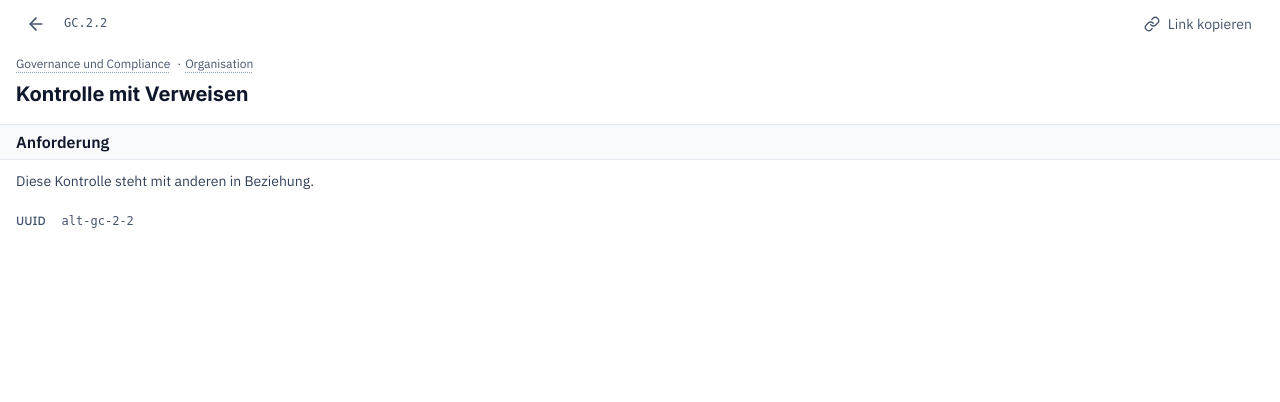
Test: ControlDetail › shows the practice identifier in the breadcrumb card and keeps curated fields hidden
Click the button with aria-label "Praktik: Governance und Compliance".
click(95, 64)  # box [16,52,173,76]
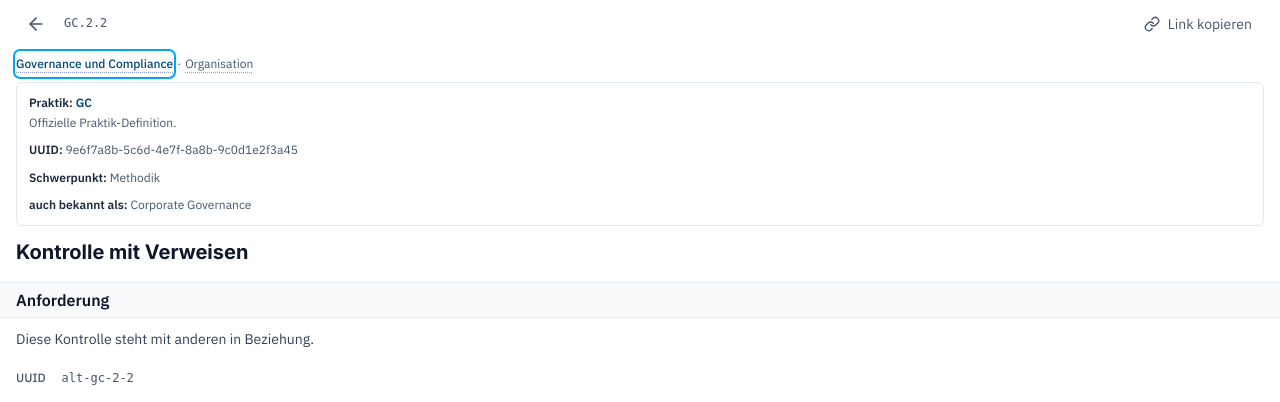
expect the text "Offizielle Praktik-Definition." is shown: met, box [29,114,176,130]
expect the text "Methodik" is shown: met, box [110,170,160,184]
expect the text "Corporate Governance" is shown: met, box [130,197,252,212]
Click the button with aria-label "Thema: Organisation".
click(220, 64)  # box [185,52,255,76]
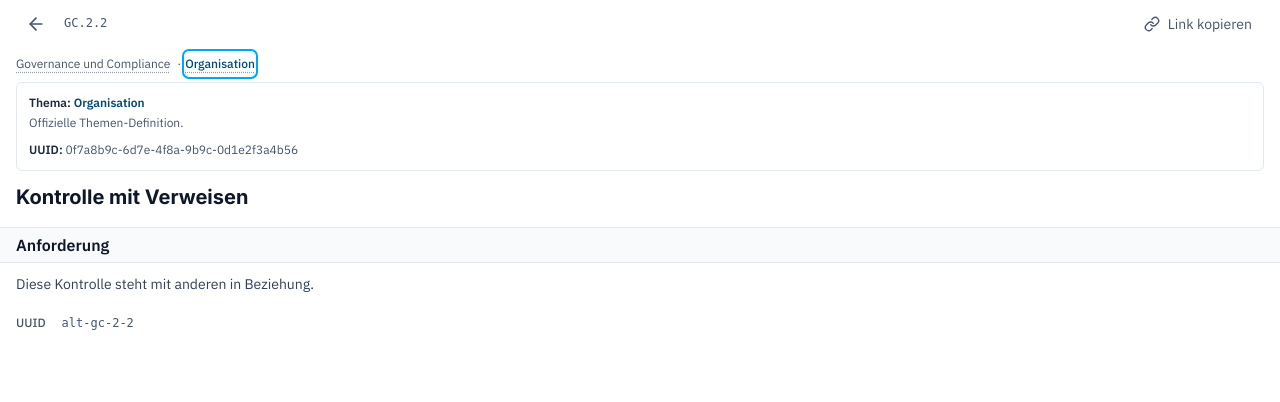
expect the text "Offizielle Themen-Definition." is shown: met, box [29,114,184,130]
expect the button with aria-label "Praktik: Governance und Compliance" is collapsed: met, box [16,52,173,76]
expect the button with aria-label "Thema: Organisation" is expanded: met, box [185,52,255,76]
